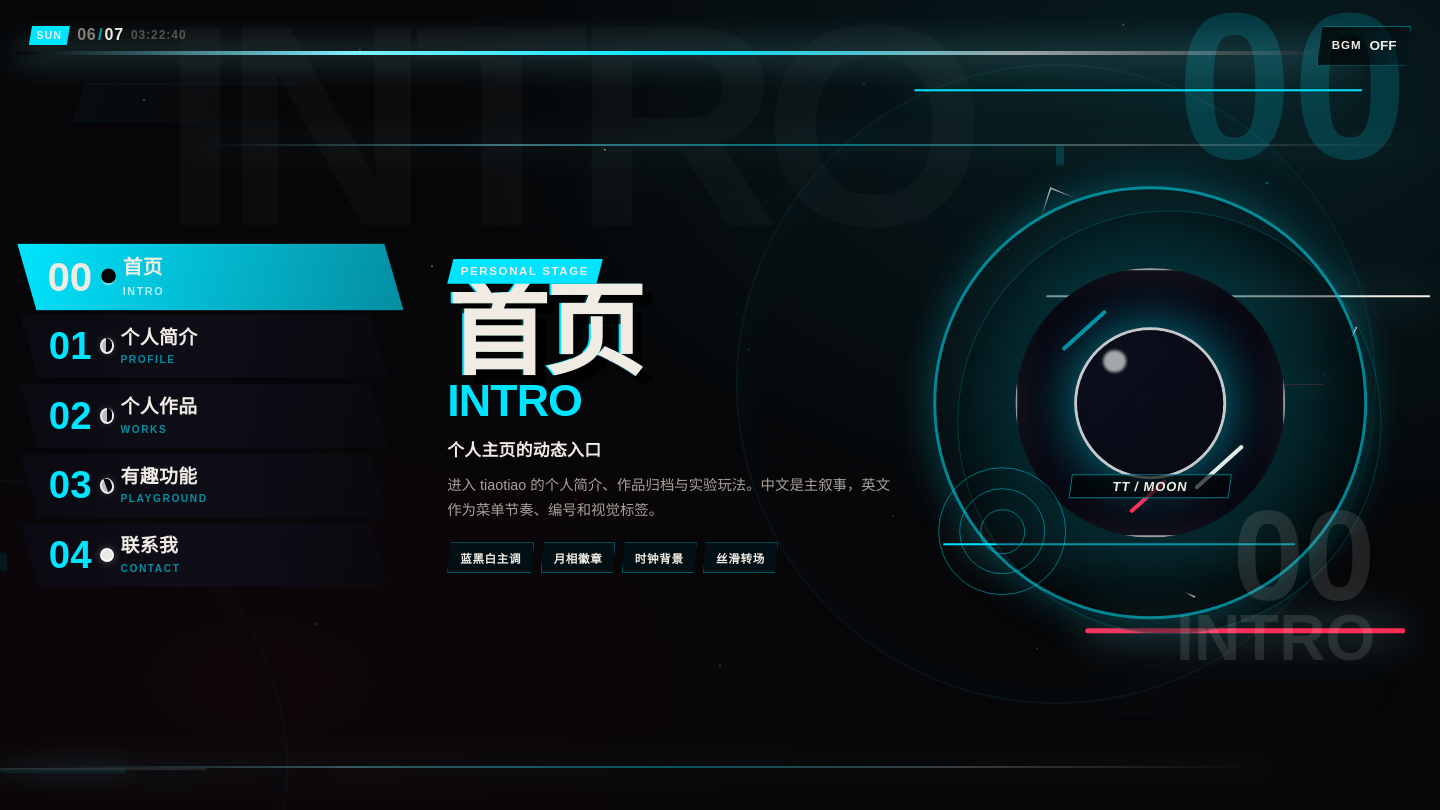
Stage menu experience › opens the palm universe subpage from playground
What coordinates should you click on to do the following:
click the button "03 有趣功能 PLAYGROUND"
I would click on:
 (70, 485)
Its box is top-left (20, 454), bottom-right (388, 518).
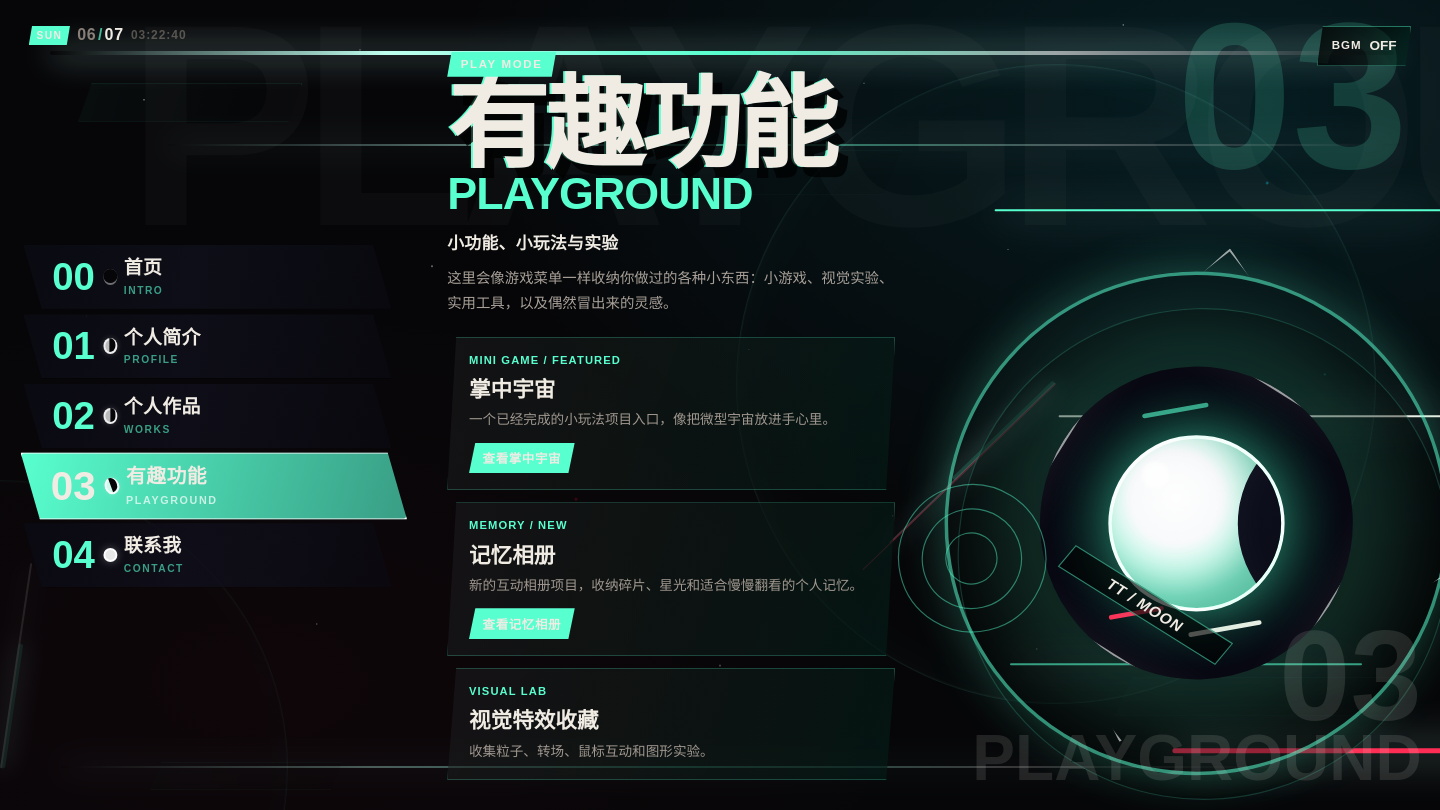
What coordinates should you click on to do the following:
click the link "查看掌中宇宙"
I would click on:
 (522, 458)
Its box is top-left (469, 442), bottom-right (575, 473).
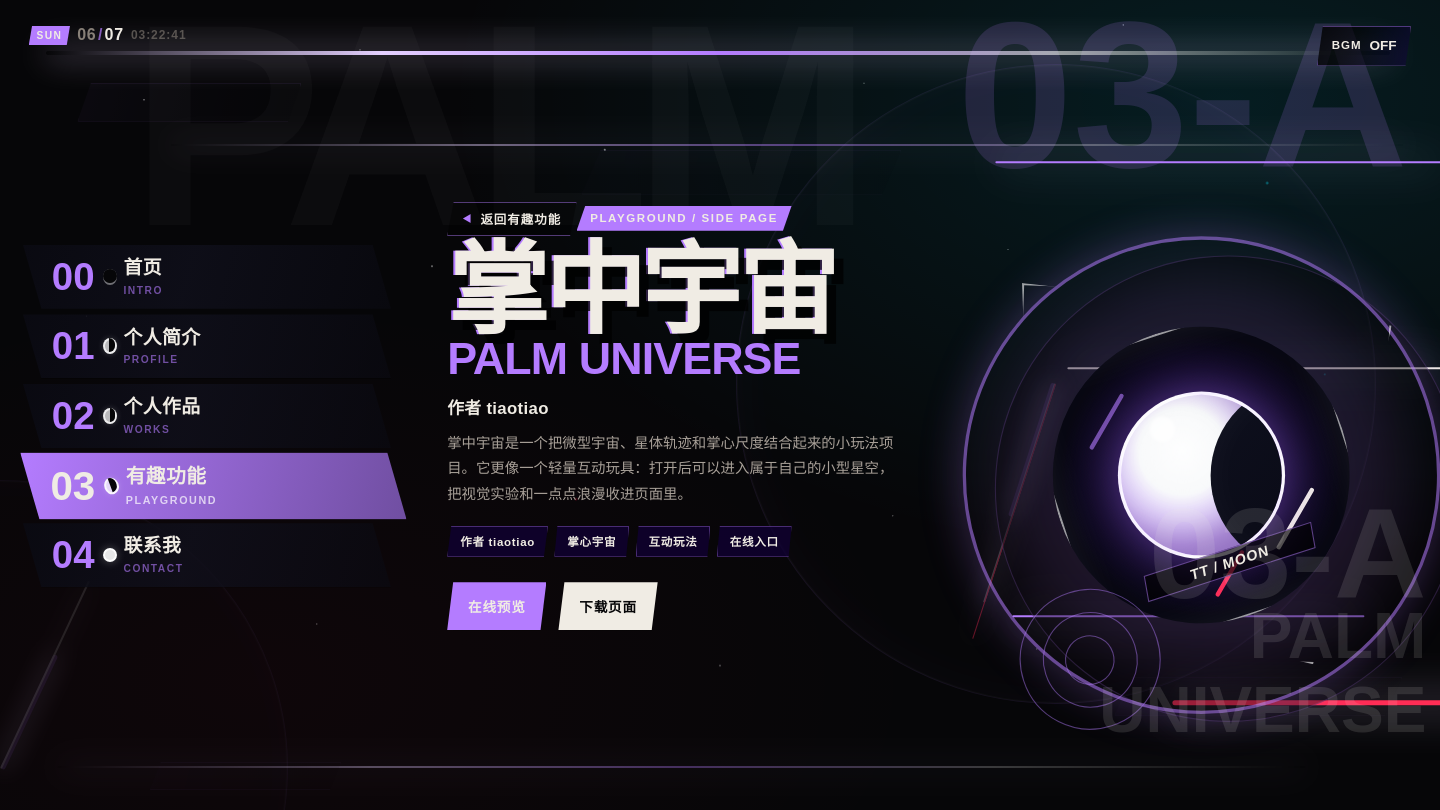
Expected: the heading "掌中宇宙" is shown, top-left (447, 252), bottom-right (895, 331)
